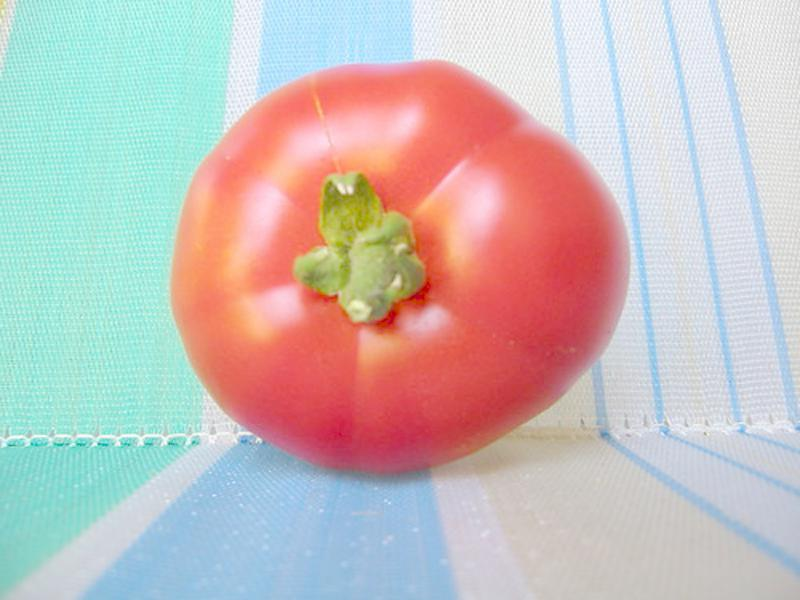Tomato: (170, 59, 626, 475)
